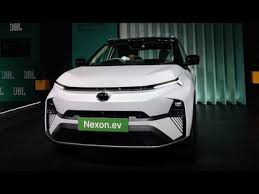Tata Nexon: (41, 35, 199, 152)
